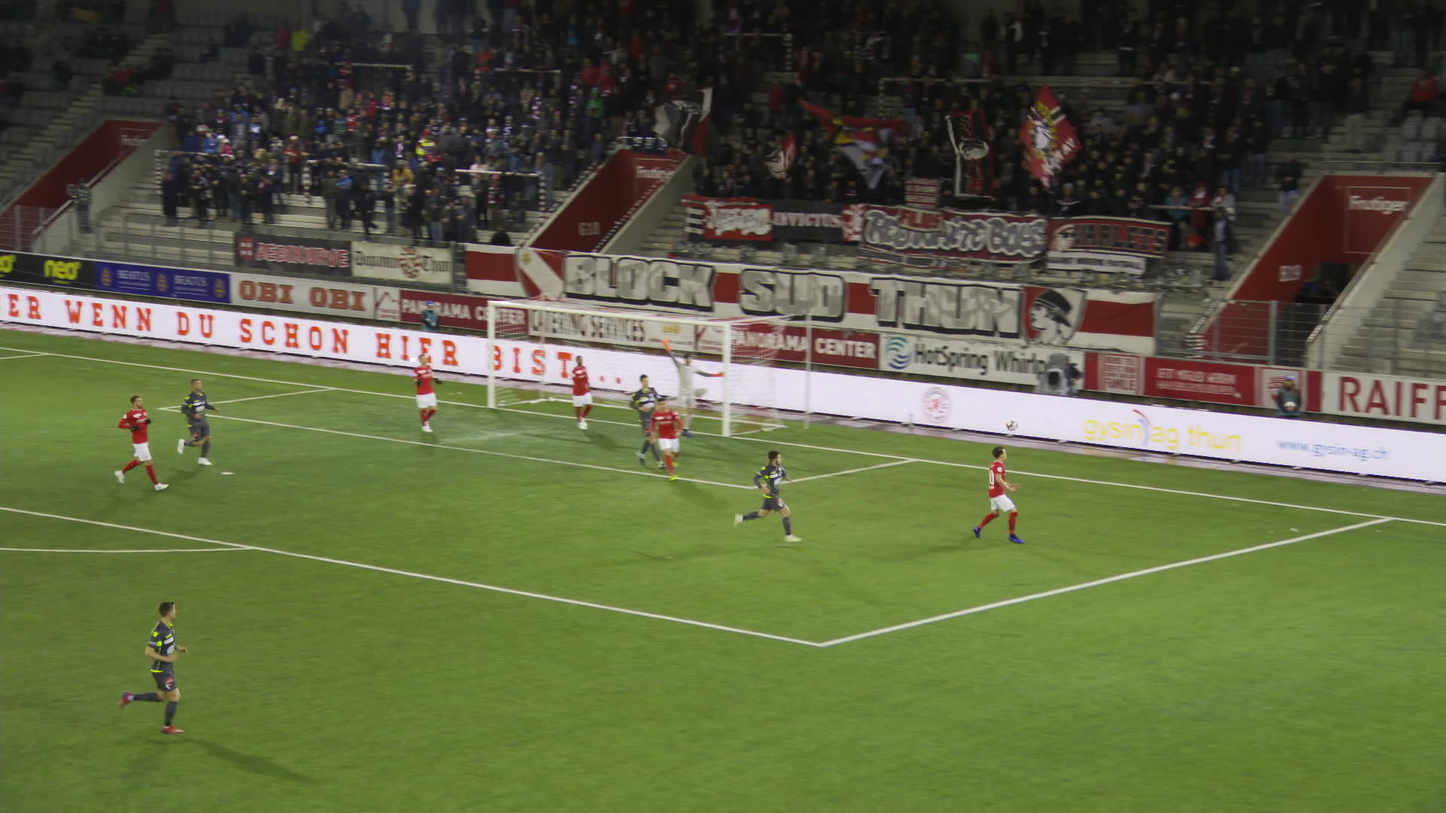ball: (1003, 417, 1018, 437)
player: (114, 595, 193, 734), (659, 336, 727, 439), (737, 450, 797, 544), (117, 394, 169, 490), (975, 446, 1020, 545), (177, 375, 225, 464), (630, 374, 668, 469), (652, 396, 690, 480), (415, 353, 447, 434), (569, 355, 597, 430)
